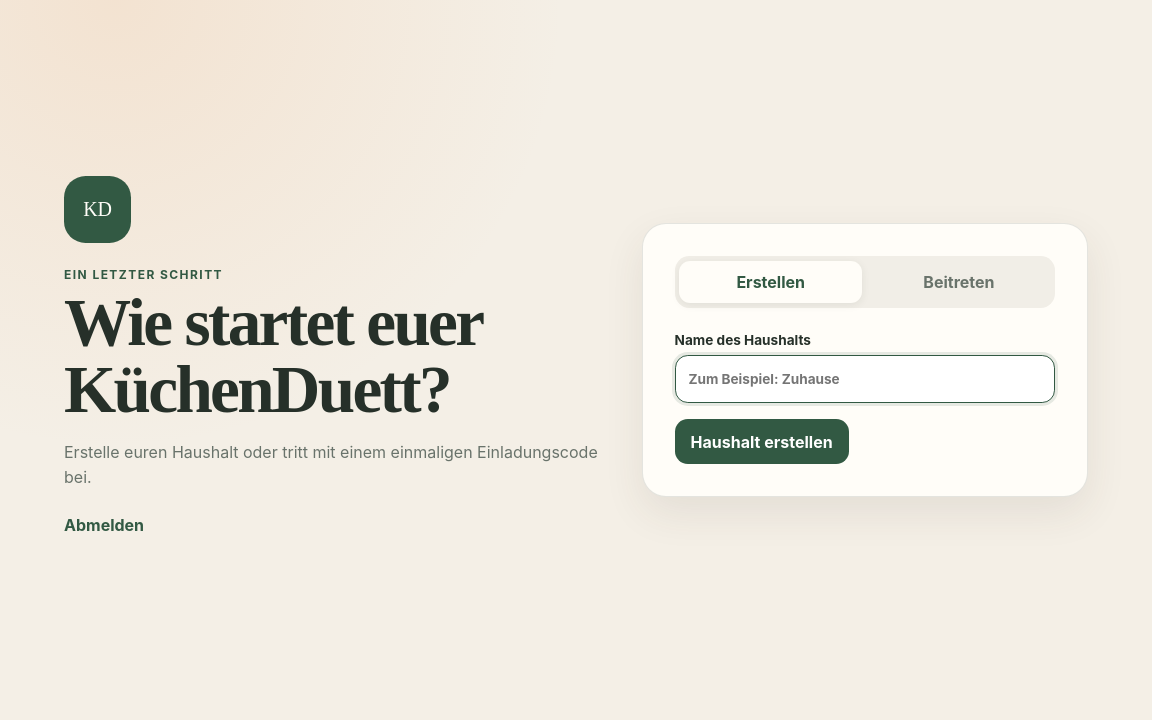
Test: Haushalts-Onboarding › zeigt eine abgelaufene Einladung verständlich an
Click the tab "Beitreten". click: (959, 282)
box: [868, 261, 1050, 303]
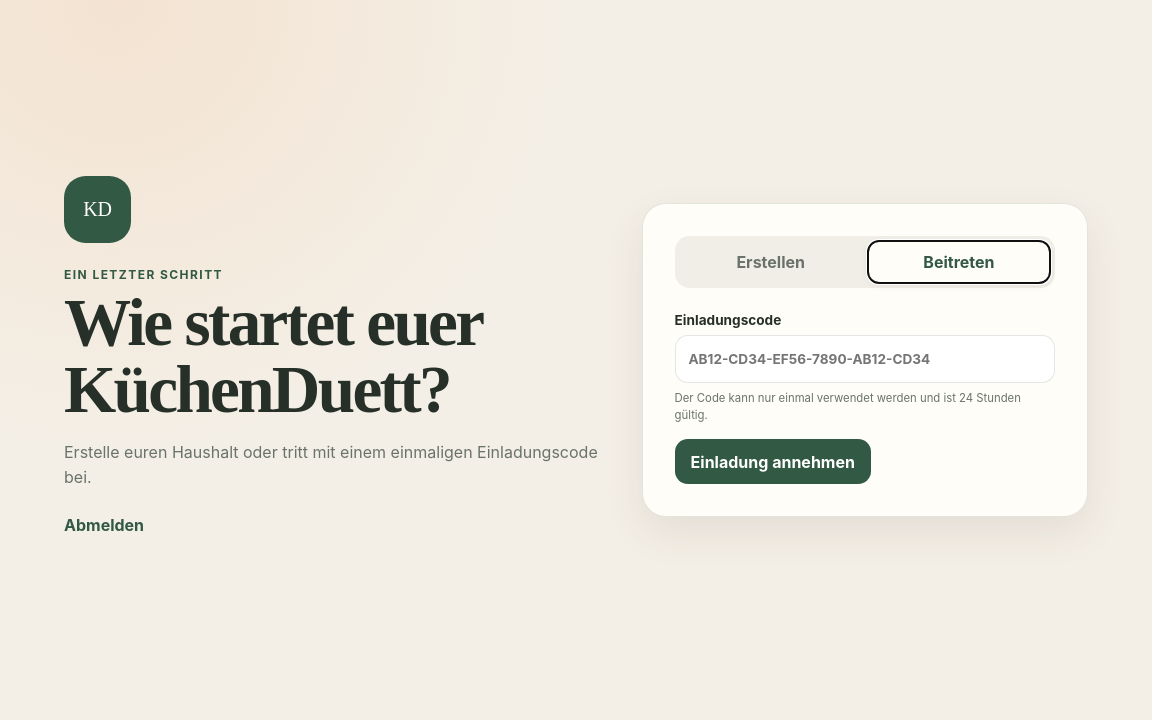
Type "AB12CD34EF567890AB12CD34" into the field labelled "Einladungscode". click: (865, 359)
box: [675, 335, 1055, 383]
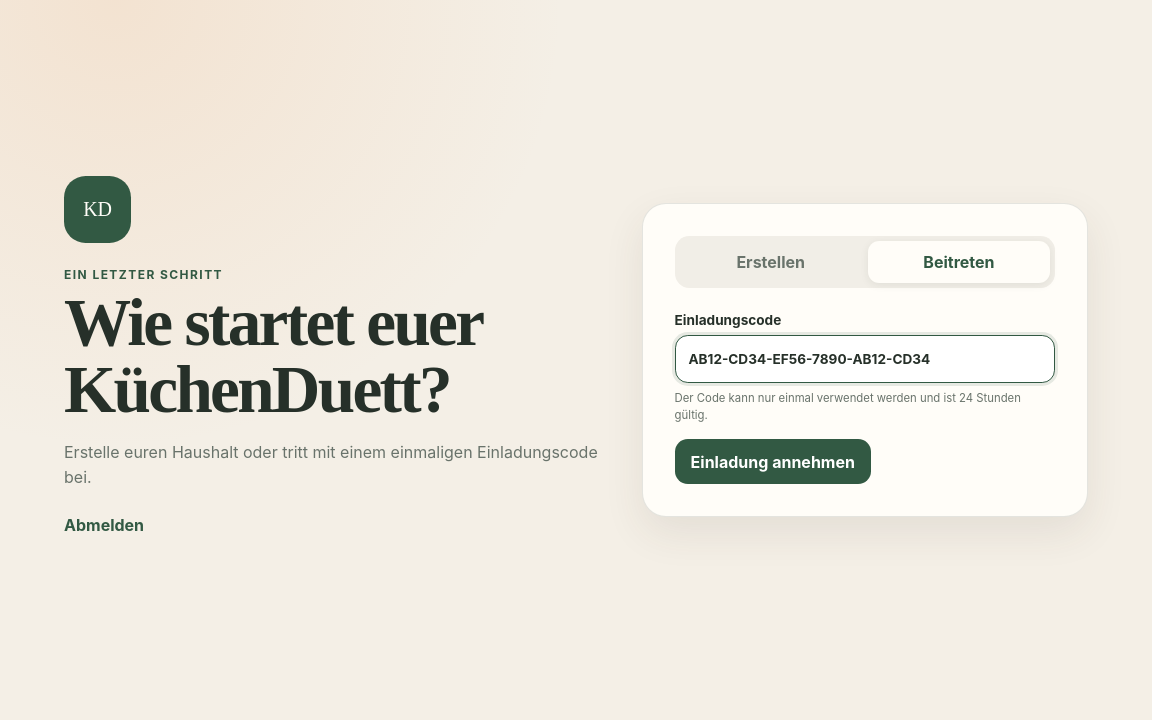
Click the button "Einladung annehmen". click: (773, 462)
box: [675, 439, 871, 484]
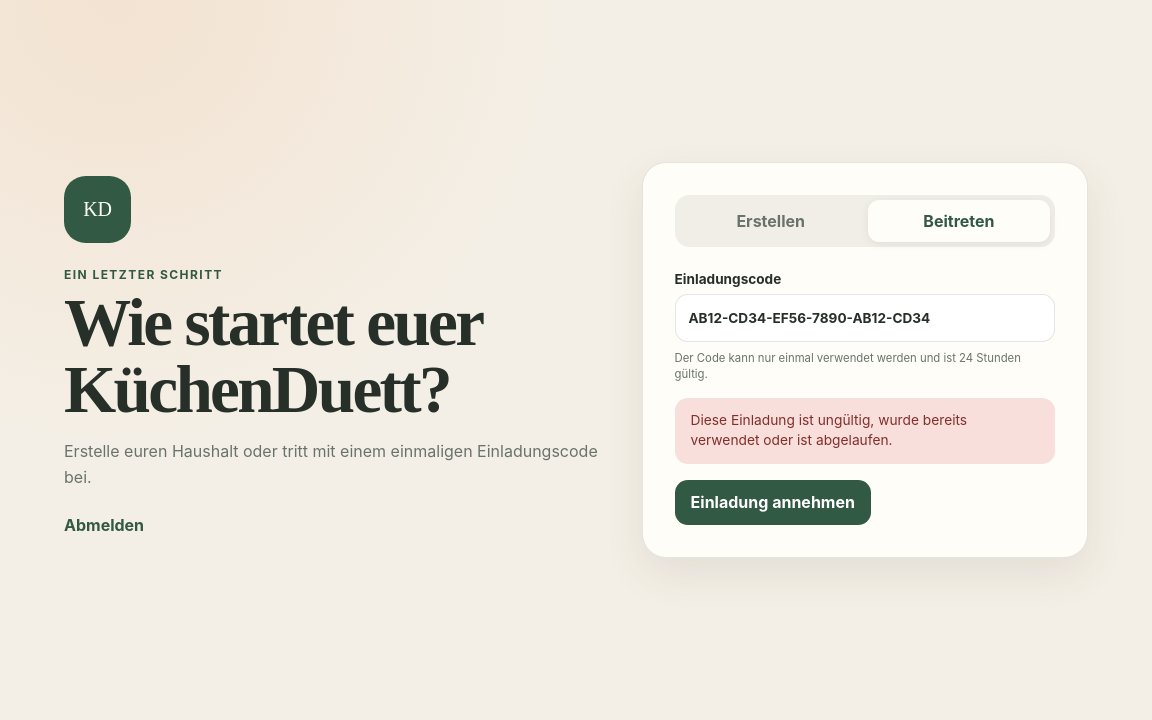
Expected: the message reads "Diese Einladung ist ungültig, wurde bereits verwendet oder ist abgelaufen.", [691, 412, 967, 448]
